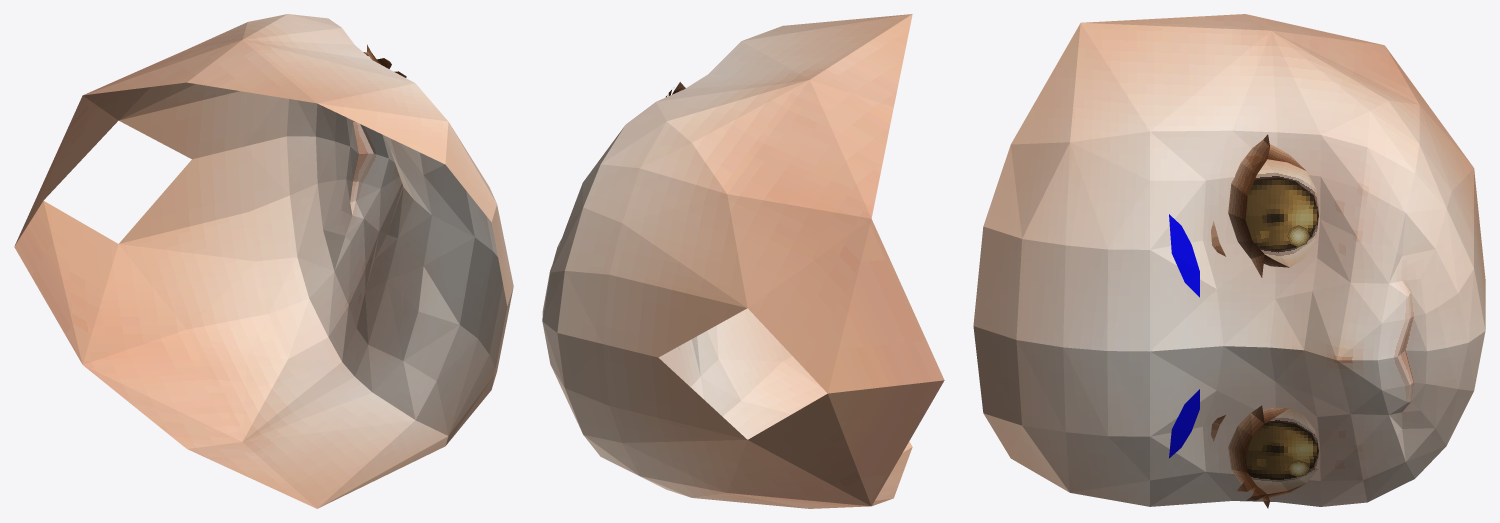
Rendered from Npc_60034.obj.
3 renders of one model, left to right at view 1: azimuth 30°, elevation 25°; view 2: azimuth 150°, elevation 25°; view 3: azimuth 270°, elevation 25°, orthographic. The views are drawn at different scales.
Parts seen in each view (by area): view 1: Npc_60034; view 2: Npc_60034; view 3: Npc_60034.
Part boxes in pixels (left/top/right/bottom): Npc_60034: left=14, top=14, right=513, bottom=508; Npc_60034: left=542, top=14, right=944, bottom=508; Npc_60034: left=973, top=14, right=1485, bottom=508.
Size of the model in its own units: 0.3325 by 0.3467 by 0.356.
Materials: 2 (1 with a texture image).
